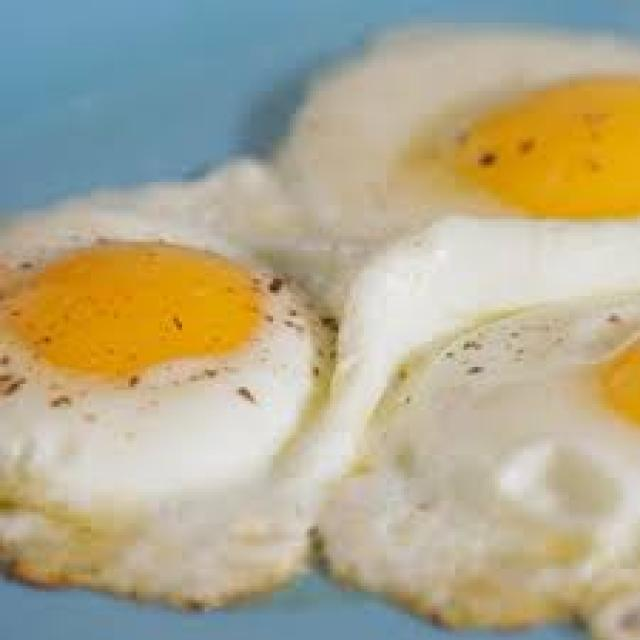Egg: (0, 26, 640, 640), (320, 219, 640, 627), (0, 228, 331, 604), (322, 300, 640, 627)
